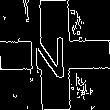N_N: (35, 30, 75, 80)
